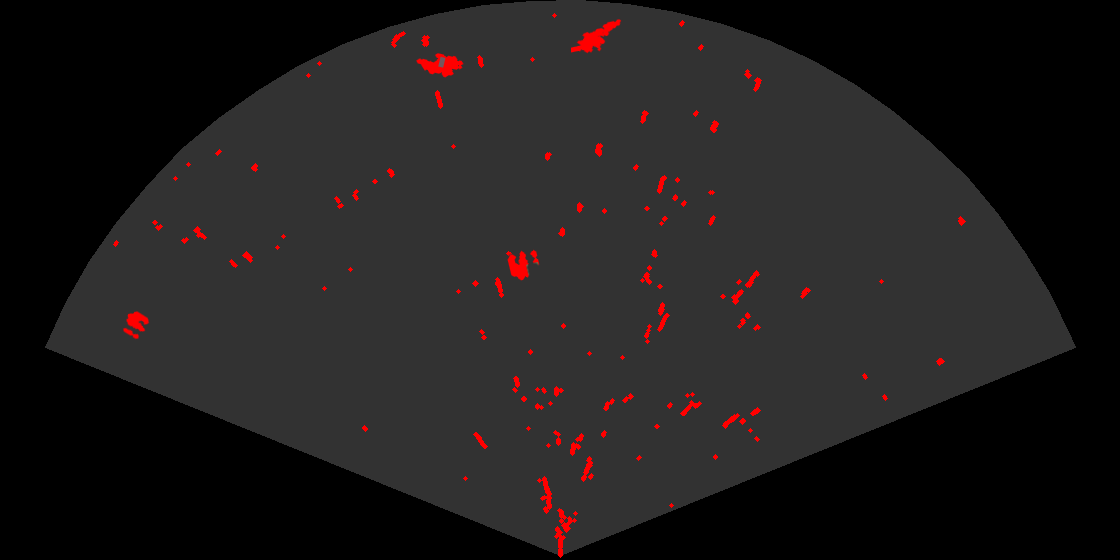AUV: (415, 52, 465, 79)
ball: (506, 248, 541, 282), (122, 309, 151, 341)
frogman: (571, 18, 623, 55)
